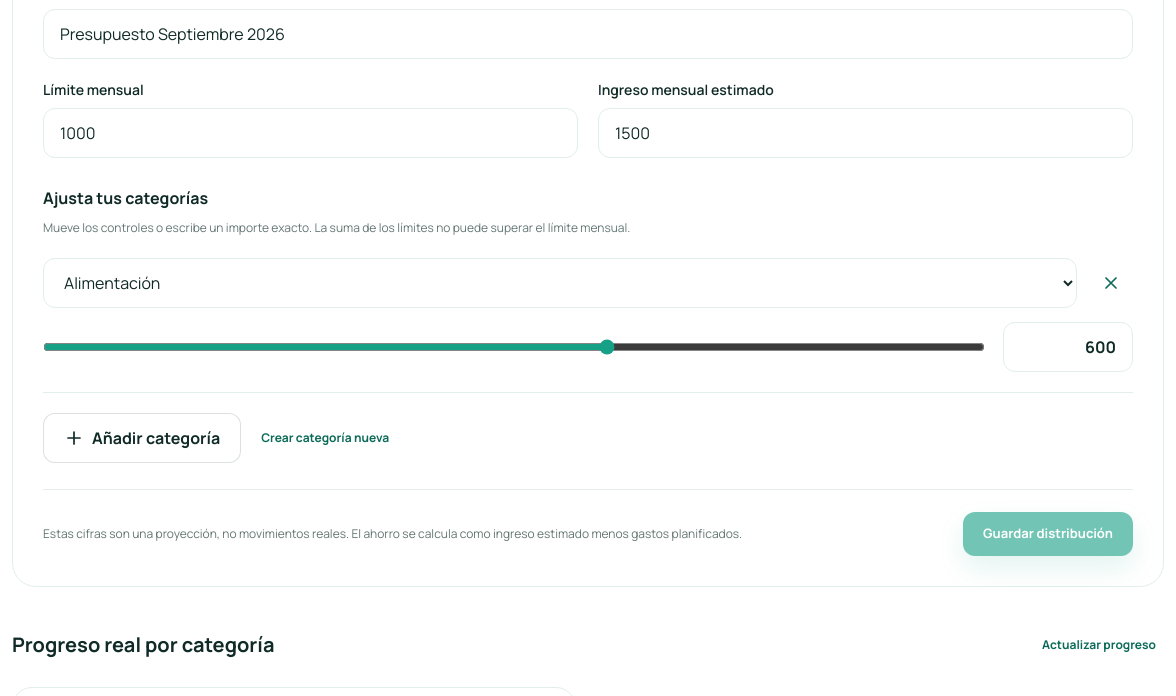
sends full distribution and revision, then acknowledges a successful save
(page scrolled)
Replace the text in the field named "Límite categoría 1" with "700". click: (1068, 347)
box: [1003,322,1133,372]
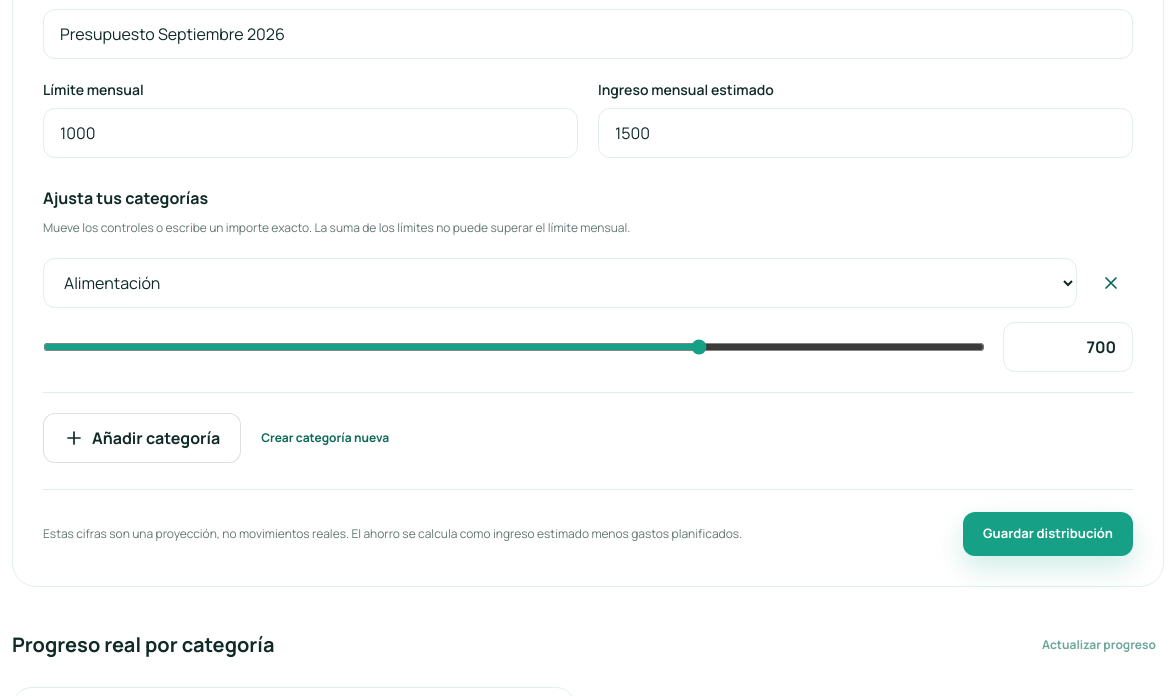
Click the button "Guardar distribución". click: (1048, 534)
box: [963,512,1133,556]
(page scrolled)
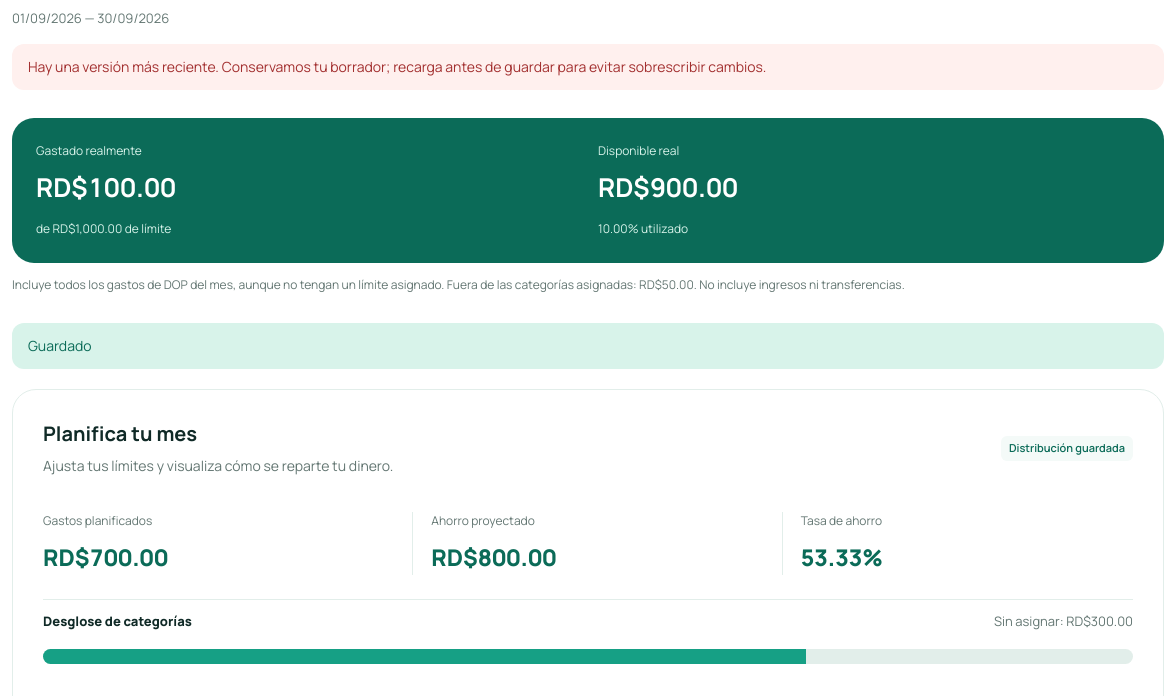
Expected: the message "Guardado" is shown, [12,323,1164,369]
